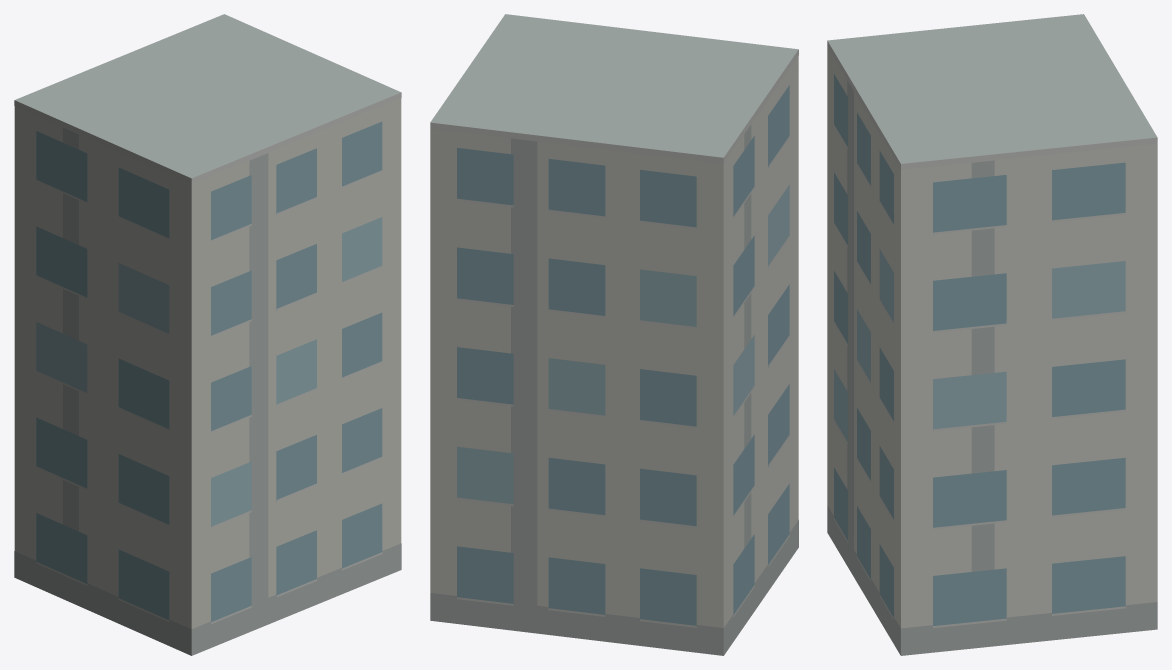
File: survey-upis-32597469.glb
The picture shows the model from 3 angles, left to right: view 1: azimuth 30°, elevation 25°; view 2: azimuth 150°, elevation 25°; view 3: azimuth 270°, elevation 25°; orthographic projection. The views are drawn at different scales.
Parts seen in each view (by area): view 1: survey-upis-32597469.tmp; view 2: survey-upis-32597469.tmp; view 3: survey-upis-32597469.tmp.
Boxes of the visible parts, <box> form: survey-upis-32597469.tmp: <box>14,14,401,655</box>; survey-upis-32597469.tmp: <box>430,14,798,655</box>; survey-upis-32597469.tmp: <box>827,14,1157,655</box>.
Bounding box in the file's own units: 12.82 × 19.6 × 11.94.
